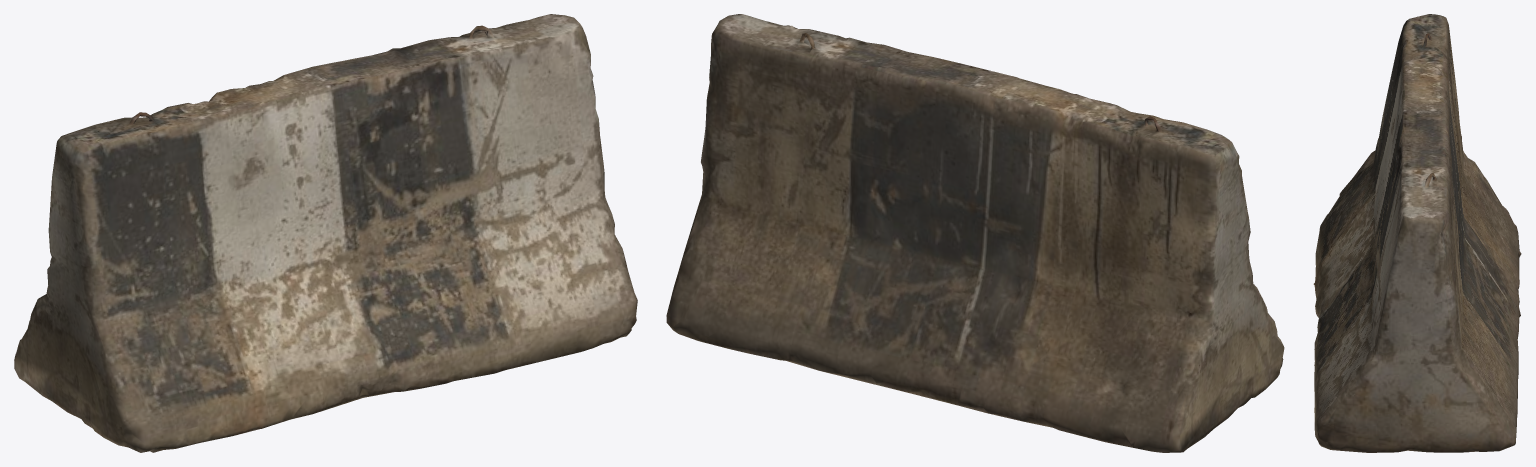
The model's file is concrete_road_barrier.glb.
The picture shows the model from 3 angles, left to right: view 1: azimuth 30°, elevation 25°; view 2: azimuth 150°, elevation 25°; view 3: azimuth 270°, elevation 25°; orthographic projection. The views are drawn at different scales.
Visible parts, largest first — view 1: concrete_road_barrier; view 2: concrete_road_barrier; view 3: concrete_road_barrier.
Boxes of the visible parts, <box> form: concrete_road_barrier: <box>14,14,637,452</box>; concrete_road_barrier: <box>666,14,1284,452</box>; concrete_road_barrier: <box>1313,14,1521,452</box>.
Bounding box in the file's own units: 1.54 × 0.8304 × 0.6387.
Materials: 1 (1 with a texture image).
